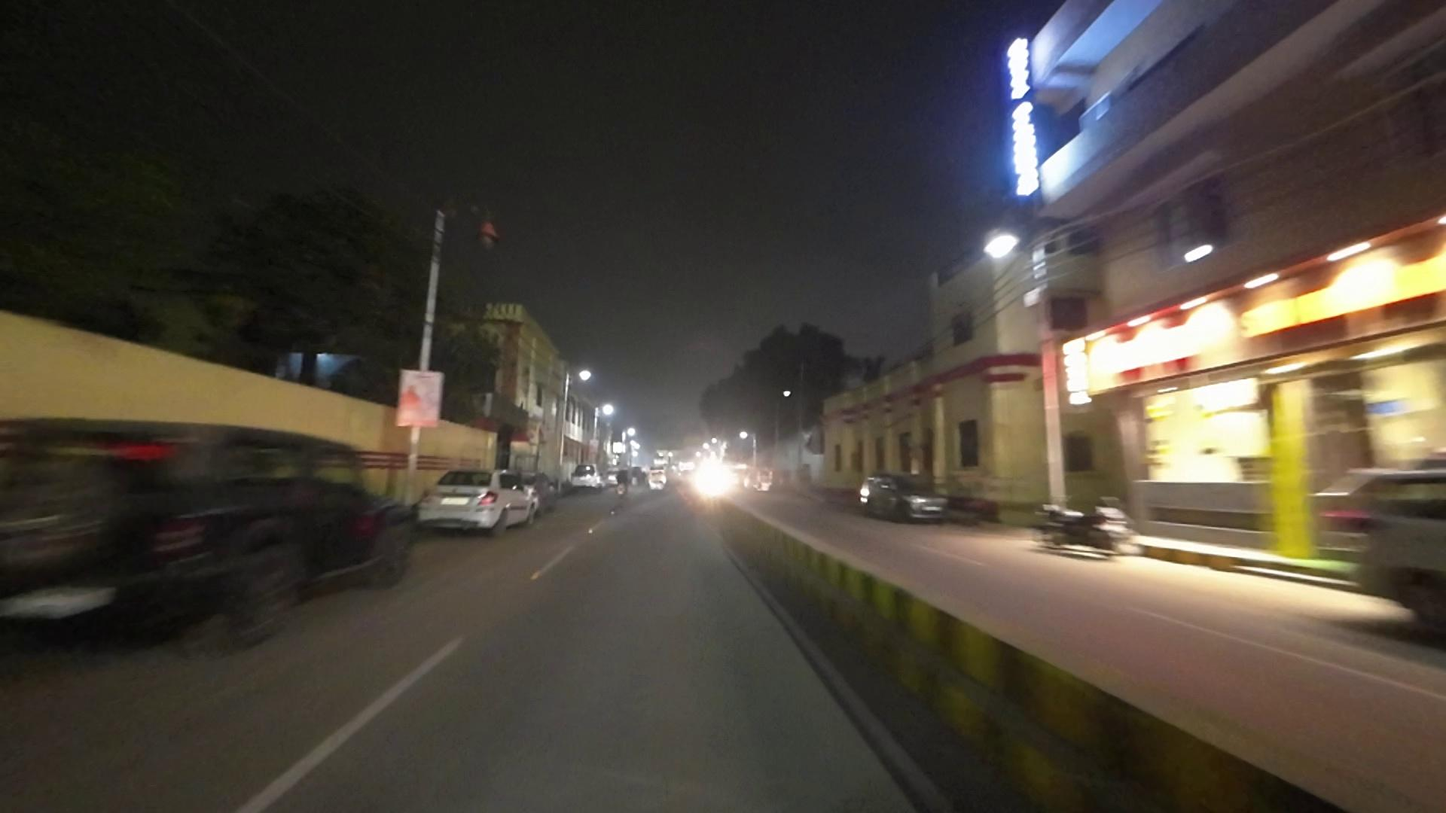streetlight: (472, 202, 500, 250)
